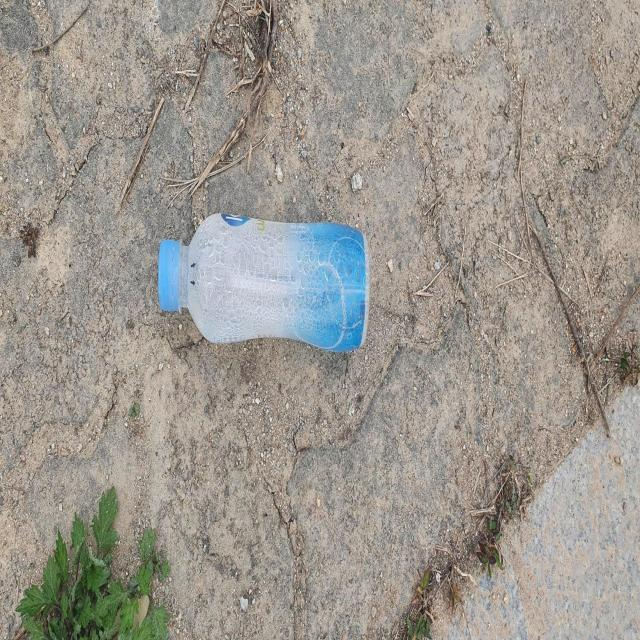plastic: (158, 212, 369, 351)
